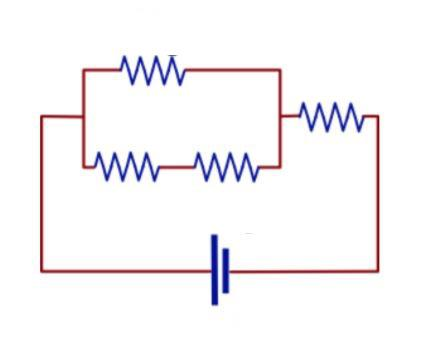resistor: (288, 92, 375, 150), (182, 137, 269, 193), (87, 146, 170, 201), (108, 42, 201, 84)
